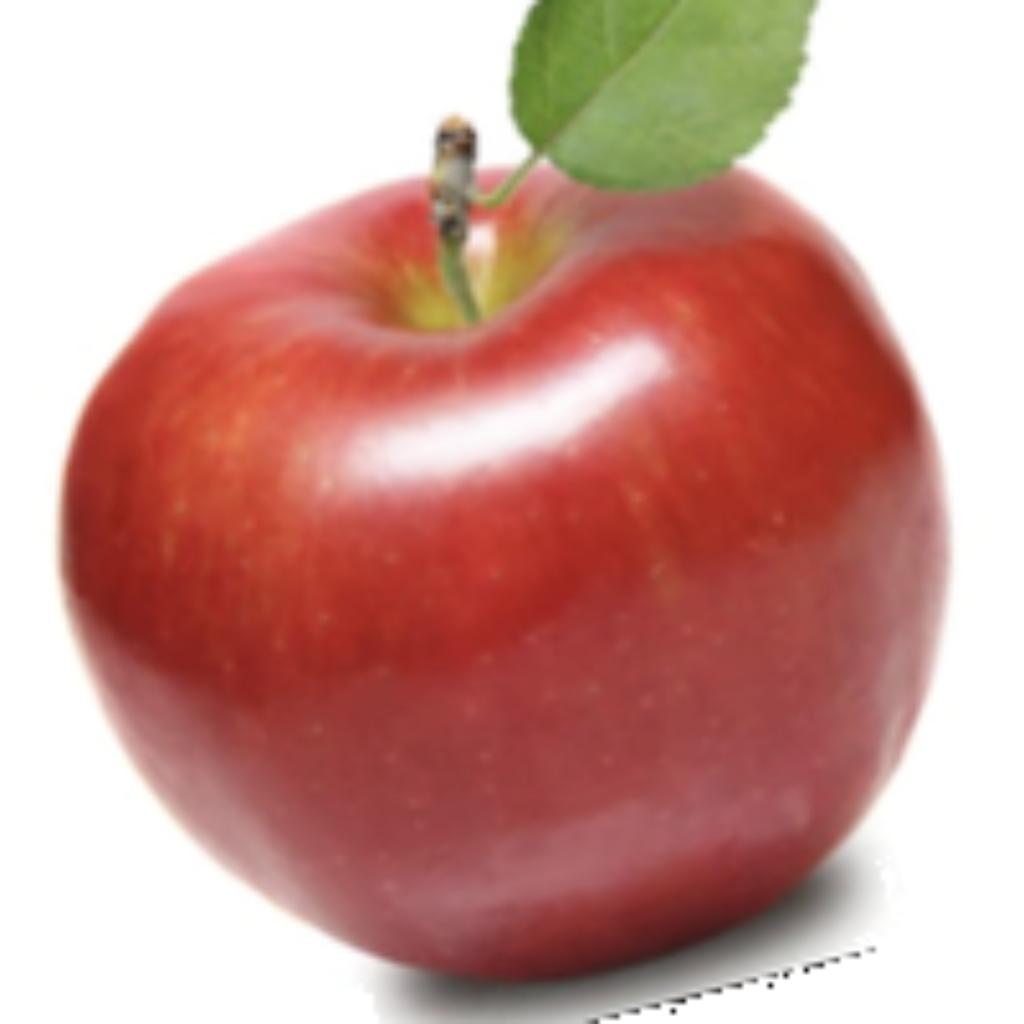apple: (46, 0, 957, 1019)
